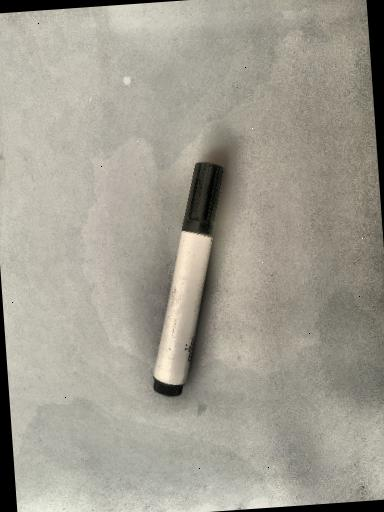marcador negro: (154, 162, 224, 396)
